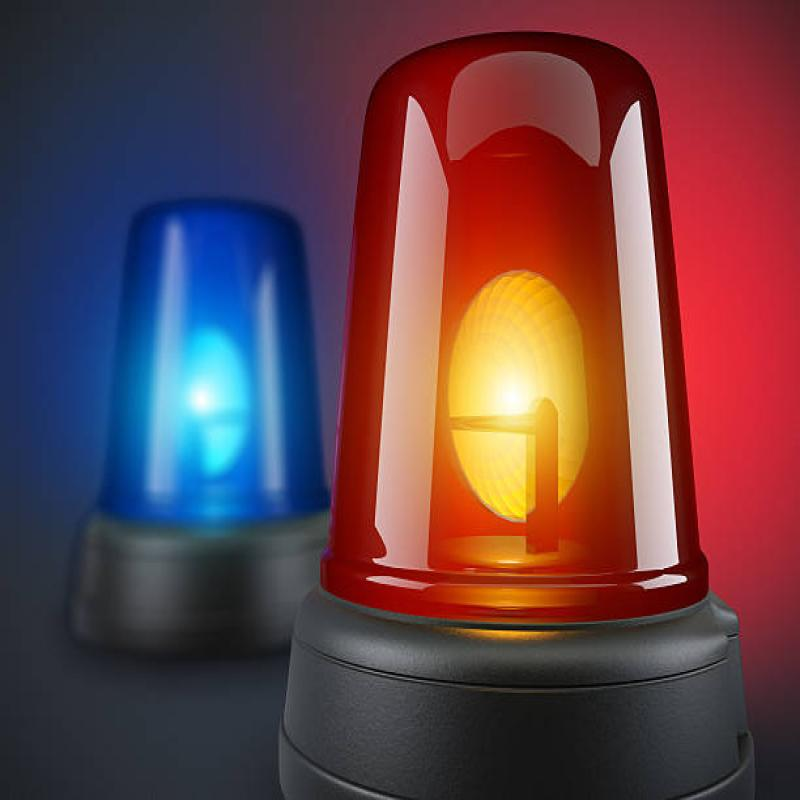AmbulanceSiren: (306, 15, 780, 800), (67, 155, 339, 658)
